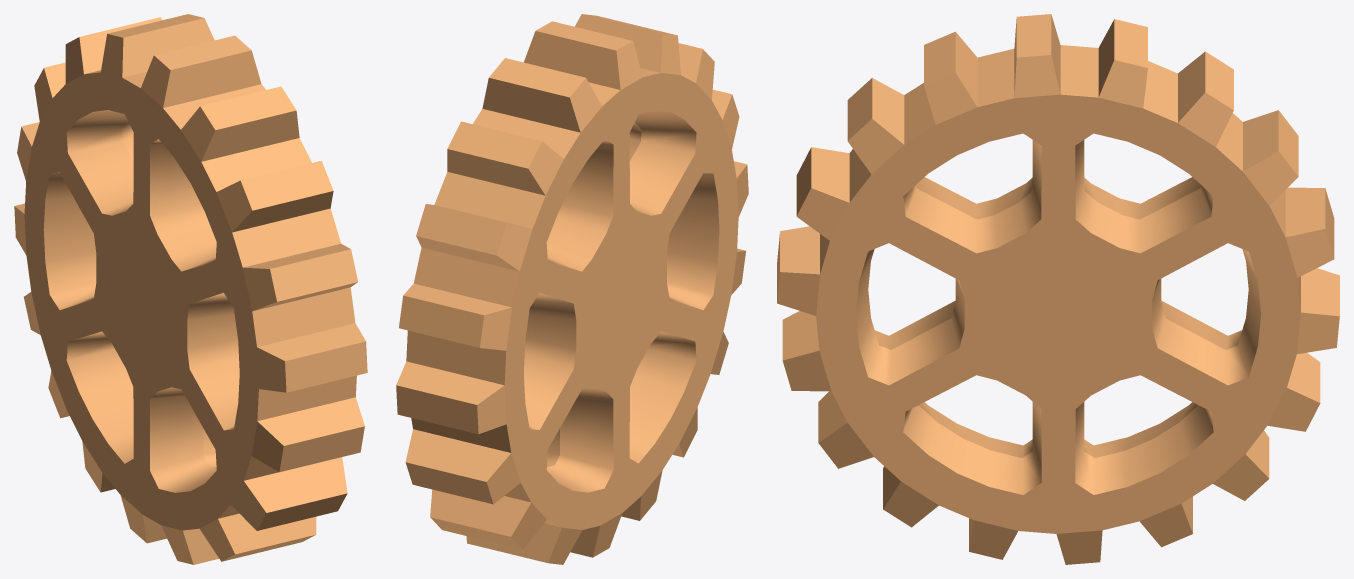
File: obstacle_16_002.fbx
3 views of the same model, side by side, from view 1: azimuth 30°, elevation 25°; view 2: azimuth 150°, elevation 25°; view 3: azimuth 270°, elevation 25° (orthographic). The views are drawn at different scales.
Parts seen in each view (by area): view 1: obstacle_16_002; view 2: obstacle_16_002; view 3: obstacle_16_002.
Boxes of the visible parts, x1,y1,x2,y2 form: obstacle_16_002: (14,14,367,564); obstacle_16_002: (396,14,748,564); obstacle_16_002: (777,14,1339,564).
Size of the model in its own units: 52.61 by 252 by 252.
